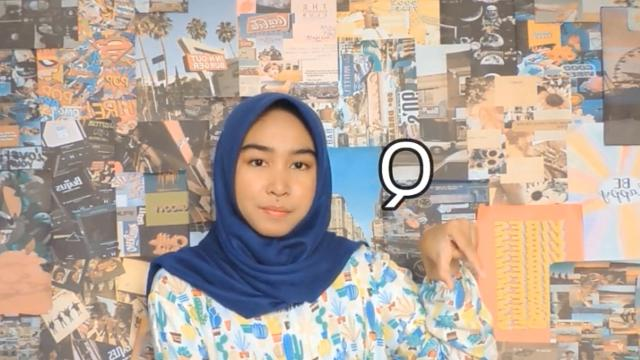Q: (418, 213, 487, 291)
